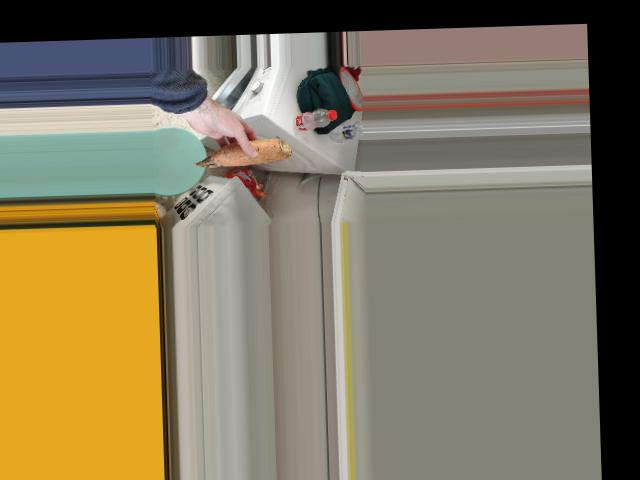sweet_potato: (199, 136, 291, 166)
